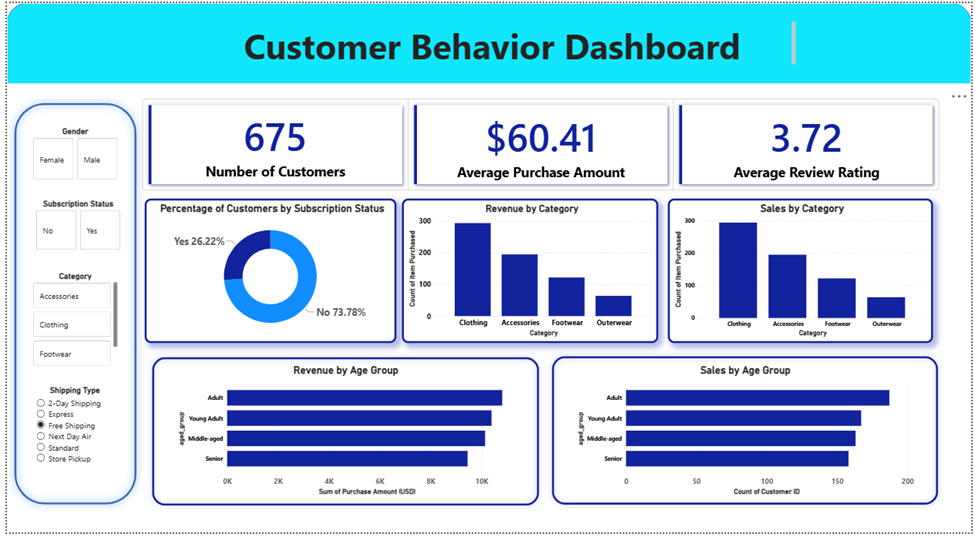

What the dashboard file says about the page in this screenshot:
{"tool":"powerbi","page":{"name":"Page 1","canvas":[2001,1100],"ordinal":0},"visuals":[{"type":"cardVisual","fields":{"Data":["customershoppinganalysis cleaned_data.Number of Customers","customershoppinganalysis cleaned_data.Average Purchase Amount","customershoppinganalysis cleaned_data.Average Review Rating"]},"box":[250,167.5,1717.5,252.5],"z":0},{"type":"shape","box":[0,0,2002,168],"z":1000},{"type":"textbox","box":[362,34,1280,102],"z":2000},{"type":"donutChart","title":"Percentage of Customers by Subscription Status","fields":{"Category":["customershoppinganalysis cleaned_data.Subscription Status"],"Y":["CountNonNull(customershoppinganalysis cleaned_data.Customer ID)"]},"box":[286,406,522,300],"z":3000},{"type":"clusteredColumnChart","title":"Revenue by Category","fields":{"Category":["customershoppinganalysis cleaned_data.Category"],"Y":["CountNonNull(customershoppinganalysis cleaned_data.Item Purchased)"]},"box":[820,406,532,300],"z":4000},{"type":"clusteredColumnChart","title":"Sales by Category","fields":{"Category":["customershoppinganalysis cleaned_data.Category"],"Y":["CountNonNull(customershoppinganalysis cleaned_data.Item Purchased)"]},"box":[1372,406,550,300],"z":5000},{"type":"advancedSlicerVisual","fields":{"Values":["customershoppinganalysis cleaned_data.Subscription Status"]},"box":[56.9,405.9,184.3,111.8],"z":6000},{"type":"shape","box":[0,192.2,284.3,864.7],"z":7000},{"type":"advancedSlicerVisual","fields":{"Values":["customershoppinganalysis cleaned_data.Gender"]},"box":[51,256.9,184.3,115.7],"z":8000},{"type":"advancedSlicerVisual","fields":{"Values":["customershoppinganalysis cleaned_data.Category"]},"box":[51,556.9,184.3,203.9],"z":9000},{"type":"listSlicer","fields":{"Values":["customershoppinganalysis cleaned_data.Shipping Type"]},"box":[56.9,794.1,170.6,219.6],"z":10000},{"type":"clusteredBarChart","title":"Revenue by Age Group","fields":{"Category":["customershoppinganalysis cleaned_data.aged_group"],"Y":["Sum(customershoppinganalysis cleaned_data.Purchase Amount (USD))"]},"box":[350,750,707.5,277.5],"z":11000},{"type":"shape","box":[287.5,722.5,830,335],"z":12000},{"type":"shape","box":[1118.3,720,828.3,335],"z":13000},{"type":"clusteredBarChart","title":"Sales by Age Group","fields":{"Category":["customershoppinganalysis cleaned_data.aged_group"],"Y":["CountNonNull(customershoppinganalysis cleaned_data.Customer ID)"]},"box":[1177.5,750,710,277.5],"z":14000}]}

Visuals, with their boxes in screenshot pixels (x1, y1, x2, y2), scaled from the page's 2001x1100 canvas onto the 975x537 screenshot:
cardVisual - customershoppinganalysis cleaned_data.Number of Customers x customershoppinganalysis cleaned_data.Average Purchase Amount: x1=122, y1=82, x2=959, y2=205
shape: x1=0, y1=0, x2=974, y2=82
textbox: x1=176, y1=17, x2=800, y2=66
"Percentage of Customers by Subscription Status" donutChart: x1=139, y1=198, x2=394, y2=345
"Revenue by Category" clusteredColumnChart: x1=400, y1=198, x2=659, y2=345
"Sales by Category" clusteredColumnChart: x1=669, y1=198, x2=937, y2=345
advancedSlicerVisual - customershoppinganalysis cleaned_data.Subscription Status: x1=28, y1=198, x2=118, y2=253
shape: x1=0, y1=94, x2=139, y2=516
advancedSlicerVisual - customershoppinganalysis cleaned_data.Gender: x1=25, y1=125, x2=115, y2=182
advancedSlicerVisual - customershoppinganalysis cleaned_data.Category: x1=25, y1=272, x2=115, y2=371
listSlicer - customershoppinganalysis cleaned_data.Shipping Type: x1=28, y1=388, x2=111, y2=495
"Revenue by Age Group" clusteredBarChart: x1=171, y1=366, x2=515, y2=502
shape: x1=140, y1=353, x2=545, y2=516
shape: x1=545, y1=351, x2=948, y2=515
"Sales by Age Group" clusteredBarChart: x1=574, y1=366, x2=920, y2=502
